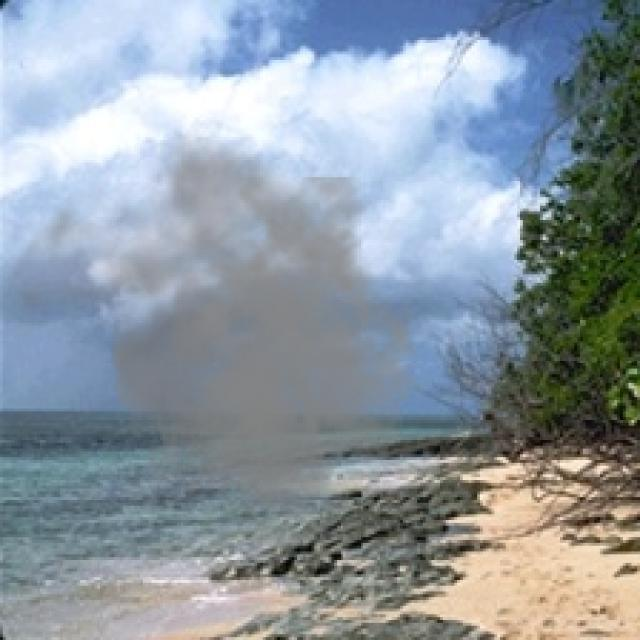Smoke: (0, 125, 426, 540)
